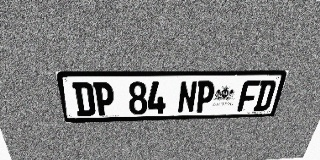4: (148, 81, 167, 114)
8: (128, 81, 147, 115)
D: (72, 82, 96, 116), (253, 80, 277, 111)
F: (237, 80, 261, 111)
N: (177, 81, 198, 113)
P: (93, 82, 115, 116), (194, 81, 216, 113)
